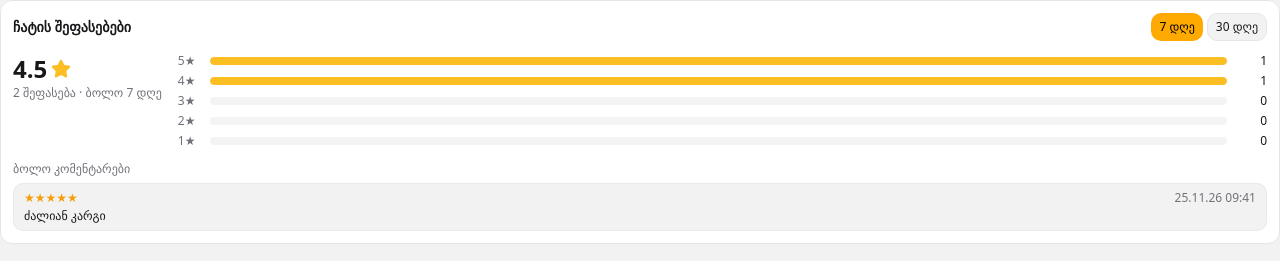
Test: AdminChatRatings summary › renders average, count, distribution and latest comments
Expected: the text "4.5" is shown, x1=13 y1=52 x2=71 y2=85
Expected: the text "2 შეფასება · ბოლო 7 დღე" is shown, x1=13 y1=85 x2=162 y2=101
Click the button "30 დღე" at (1237, 27), box x1=1207 y1=13 x2=1267 y2=41
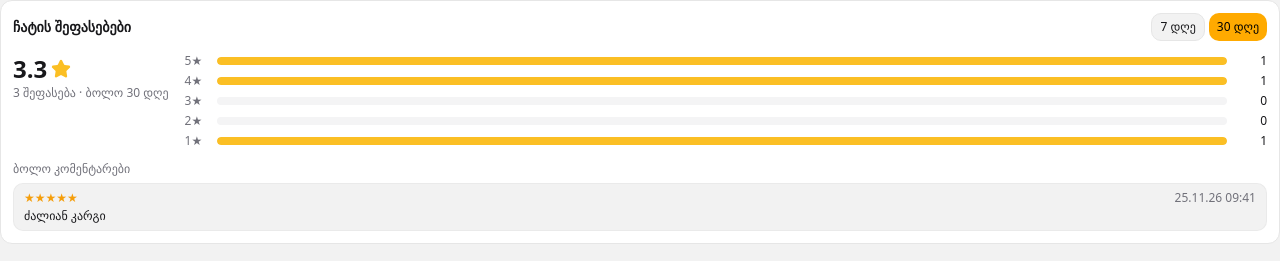
Now the text "3.3" is shown, box x1=13 y1=52 x2=71 y2=85
Now the text "3 შეფასება · ბოლო 30 დღე" is shown, box x1=13 y1=85 x2=169 y2=101
